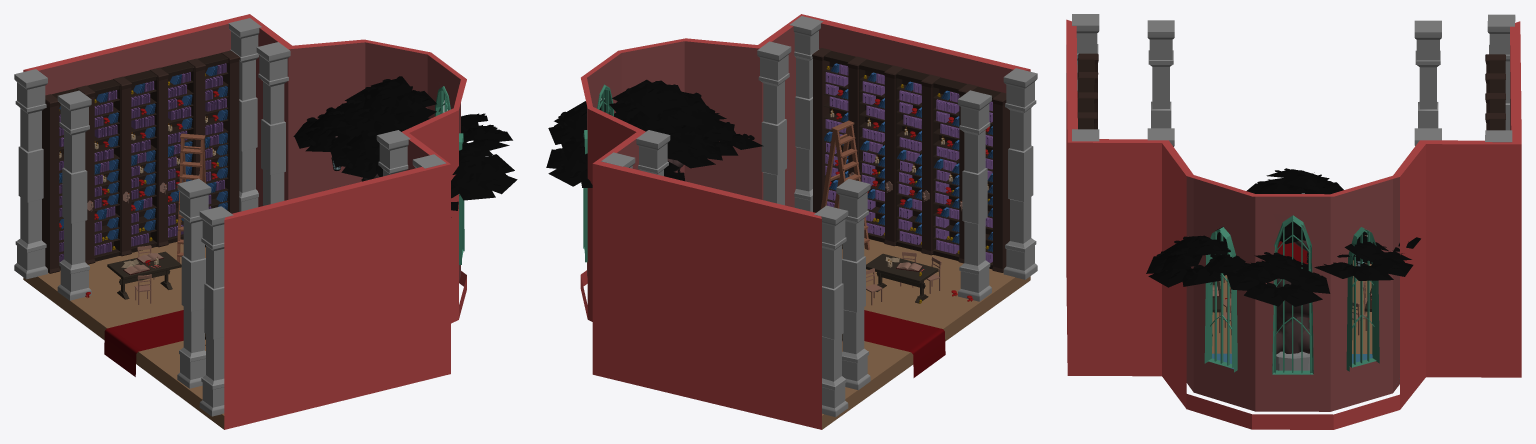
Rendered from pls.obj.
3 renders of one model, left to right at view 1: azimuth 30°, elevation 25°; view 2: azimuth 150°, elevation 25°; view 3: azimuth 270°, elevation 25°, orthographic. The views are drawn at different scales.
Visible parts, largest first — view 1: pasted__polySurface77 pasted__polySurface75 pasted__room pasted_, polySurface1750, Msh_Bookshelf_Left_Msh_Bookshelf1_polySurface1262_polySurface131, polySurface2172, polySurface2168, pPlane29, Floor1, pCube373 polySurface512, polySurface2026 polySurface1825 polySurface374, polySurface1311, polySurface66; view 2: pasted__polySurface77 pasted__polySurface75 pasted__room pasted_, polySurface1750, Msh_Bookshelf_Left_Msh_Bookshelf1_polySurface1262_polySurface131, polySurface2172, polySurface2168, pPlane29, Floor1, pCube373 polySurface512, polySurface2026 polySurface1825 polySurface374, polySurface1311, polySurface66; view 3: pasted__polySurface77 pasted__polySurface75 pasted__room pasted_, polySurface2172, pPlane29, polySurface1750, polySurface66, Msh_Bookshelf_Left_Msh_Bookshelf1_polySurface1262_polySurface131, polySurface1751 polySurface275, Floor1, polySurface2026 polySurface1825 polySurface374.
Part boxes in pixels (x1=…): pasted__polySurface77 pasted__polySurface75 pasted__room pasted_: x1=23, y1=14, x2=466, y2=429; polySurface1750: x1=14, y1=18, x2=446, y2=416; Msh_Bookshelf_Left_Msh_Bookshelf1_polySurface1262_polySurface131: x1=42, y1=50, x2=240, y2=273; polySurface2172: x1=38, y1=24, x2=460, y2=281; polySurface2168: x1=59, y1=63, x2=227, y2=297; pPlane29: x1=293, y1=76, x2=517, y2=217; Floor1: x1=23, y1=242, x2=224, y2=429; pCube373 polySurface512: x1=104, y1=310, x2=183, y2=376; polySurface2026 polySurface1825 polySurface374: x1=107, y1=245, x2=205, y2=345; polySurface1311: x1=177, y1=133, x2=205, y2=262; polySurface66: x1=434, y1=86, x2=464, y2=264; pasted__polySurface77 pasted__polySurface75 pasted__room pasted_: x1=580, y1=14, x2=1030, y2=429; polySurface1750: x1=601, y1=16, x2=1037, y2=417; Msh_Bookshelf_Left_Msh_Bookshelf1_polySurface1262_polySurface131: x1=812, y1=48, x2=1009, y2=272; polySurface2172: x1=587, y1=23, x2=1013, y2=277; polySurface2168: x1=824, y1=63, x2=992, y2=303; pPlane29: x1=546, y1=79, x2=763, y2=187; Floor1: x1=822, y1=239, x2=1030, y2=429; pCube373 polySurface512: x1=864, y1=310, x2=945, y2=377; polySurface2026 polySurface1825 polySurface374: x1=842, y1=244, x2=941, y2=341; polySurface1311: x1=820, y1=120, x2=869, y2=249; polySurface66: x1=583, y1=84, x2=613, y2=262; pasted__polySurface77 pasted__polySurface75 pasted__room pasted_: x1=1066, y1=19, x2=1521, y2=429; polySurface2172: x1=1186, y1=45, x2=1511, y2=411; pPlane29: x1=1146, y1=168, x2=1420, y2=306; polySurface1750: x1=1072, y1=14, x2=1515, y2=370; polySurface66: x1=1204, y1=215, x2=1379, y2=374; Msh_Bookshelf_Left_Msh_Bookshelf1_polySurface1262_polySurface131: x1=1077, y1=53, x2=1505, y2=130; polySurface1751 polySurface275: x1=1272, y1=235, x2=1364, y2=365; Floor1: x1=1212, y1=260, x2=1372, y2=353; polySurface2026 polySurface1825 polySurface374: x1=1212, y1=235, x2=1371, y2=336.
Bounding box in the file's own units: 1364 × 739 × 1247.
